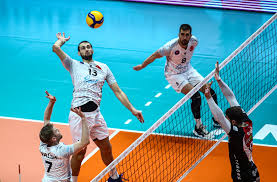ball: (85, 10, 105, 29)
